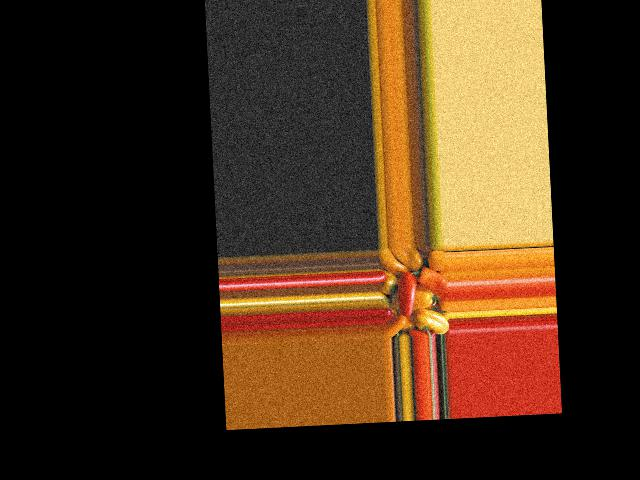bell_pepper: (416, 306, 448, 336)
